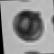correct: (5, 7, 46, 46)
